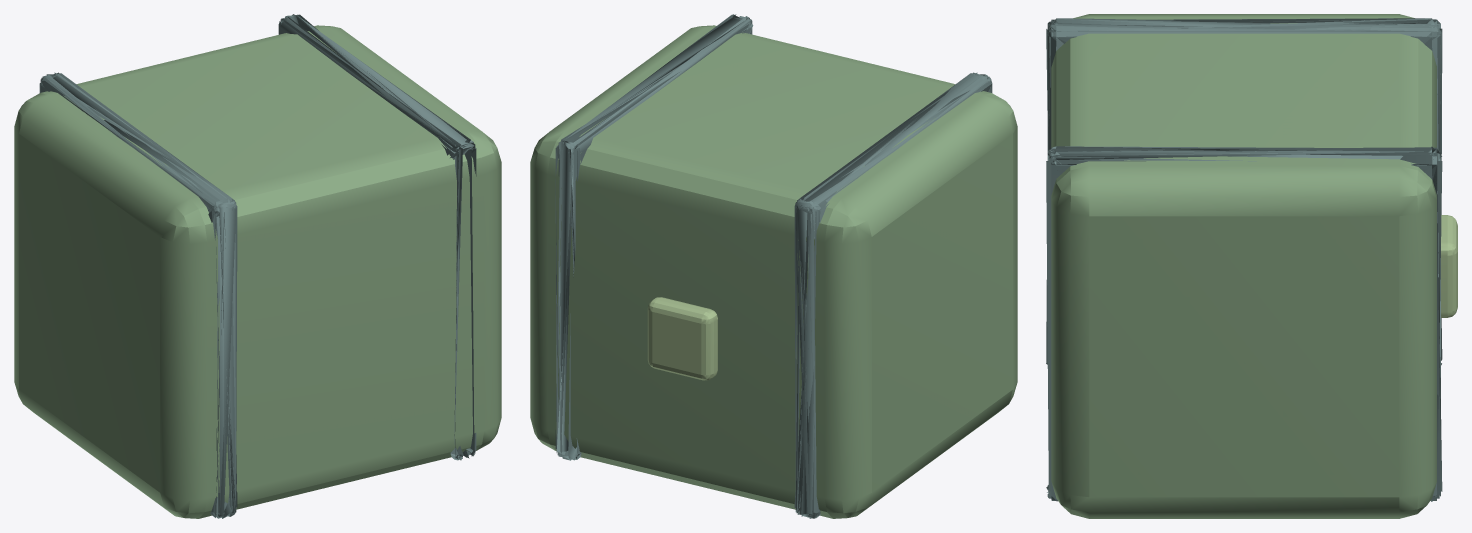
Rendered from crate.glb.
The picture shows the model from 3 angles, left to right: view 1: azimuth 30°, elevation 25°; view 2: azimuth 150°, elevation 25°; view 3: azimuth 270°, elevation 25°; orthographic projection. The views are drawn at different scales.
Parts seen in each view (by area): view 1: Crate, CrateBand, CrateBand.001; view 2: Crate, CrateBand, CrateBand.001, Latch; view 3: Crate, CrateBand.001, CrateBand, Latch.
Boxes of the visible parts, x1,y1,x2,y2 form: Crate: (14,25,501,518); CrateBand: (39,72,237,518); CrateBand.001: (278,14,476,460); Crate: (530,25,1017,518); CrateBand: (794,72,992,518); CrateBand.001: (555,14,753,460); Latch: (647,297,717,380); Crate: (1051,14,1436,518); CrateBand.001: (1046,146,1442,501); CrateBand: (1046,18,1442,368); Latch: (1441,215,1457,317).
Size of the model in its own units: 0.62 by 0.57 by 0.5975.
